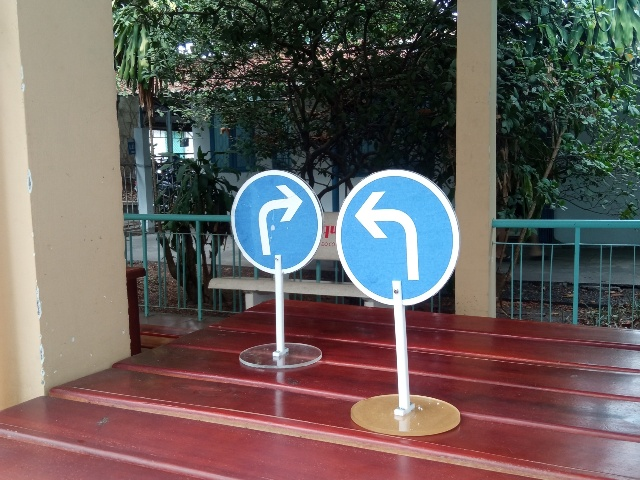Left_Sign: (335, 170, 460, 308)
Right_Sign: (230, 170, 324, 274)
